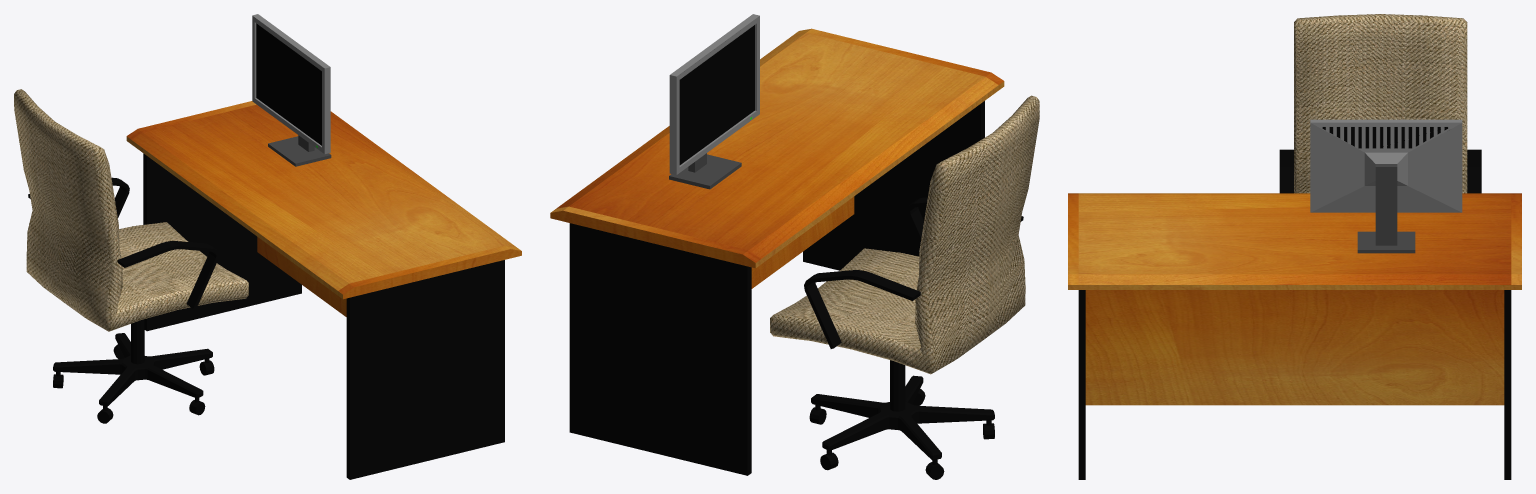
Rendered from OfficeSet.fbx.
3 views of the same model, side by side, from view 1: azimuth 30°, elevation 25°; view 2: azimuth 150°, elevation 25°; view 3: azimuth 270°, elevation 25° (orthographic). The views are drawn at different scales.
Parts seen in each view (by area): view 1: officeTable.000, officeChair.000, pcMonitor; view 2: officeTable.000, officeChair.000, pcMonitor; view 3: officeTable.000, officeChair.000, pcMonitor.
Part boxes in pixels (x1,y1,x2,y2): officeTable.000: (126, 101, 521, 479); officeChair.000: (14, 89, 248, 423); pcMonitor: (252, 14, 331, 166); officeTable.000: (550, 28, 1004, 475); officeChair.000: (770, 95, 1039, 479); pcMonitor: (669, 14, 759, 189); officeTable.000: (1068, 193, 1521, 479); officeChair.000: (1279, 14, 1481, 193); pcMonitor: (1310, 119, 1462, 253).
Size of the model in its own units: 140 by 126 by 160.
